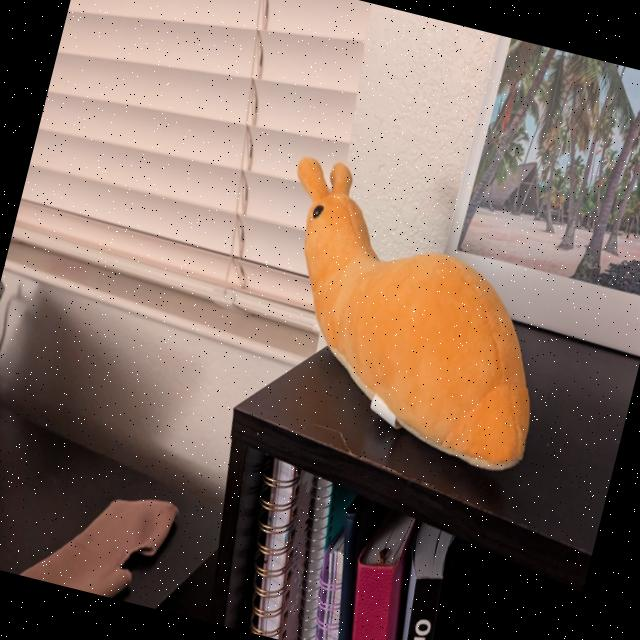banana-slug-toy: (228, 142, 610, 498)
